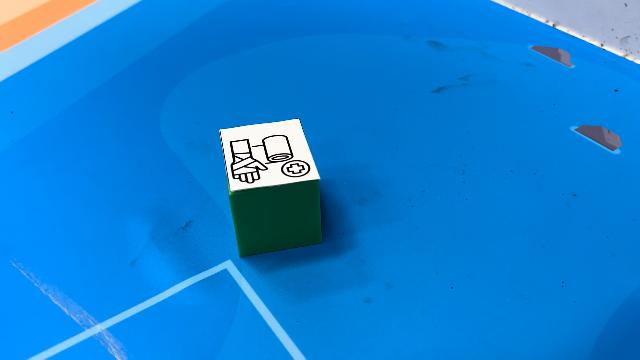bandage: (218, 116, 326, 258)
